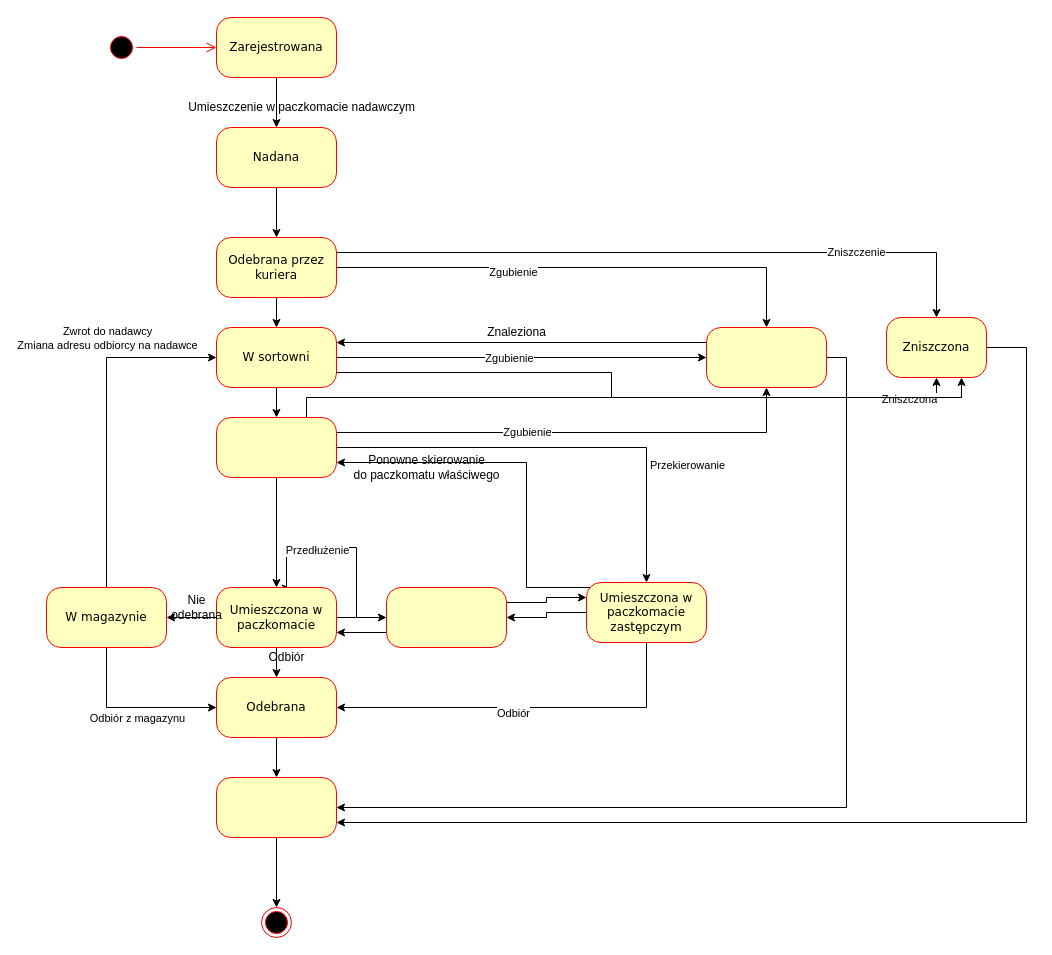
The diagram is 1052 pixels wide and 955 high, and some of its shapes have lost their labels. Each missing label, with the centre of its shape:
Wydana do doręczenia: (276,447)
Zablokowana Awaria Paczkomatu: (446,617)
Zarchiwizowana: (276,807)
Zgubiona: (766,357)
